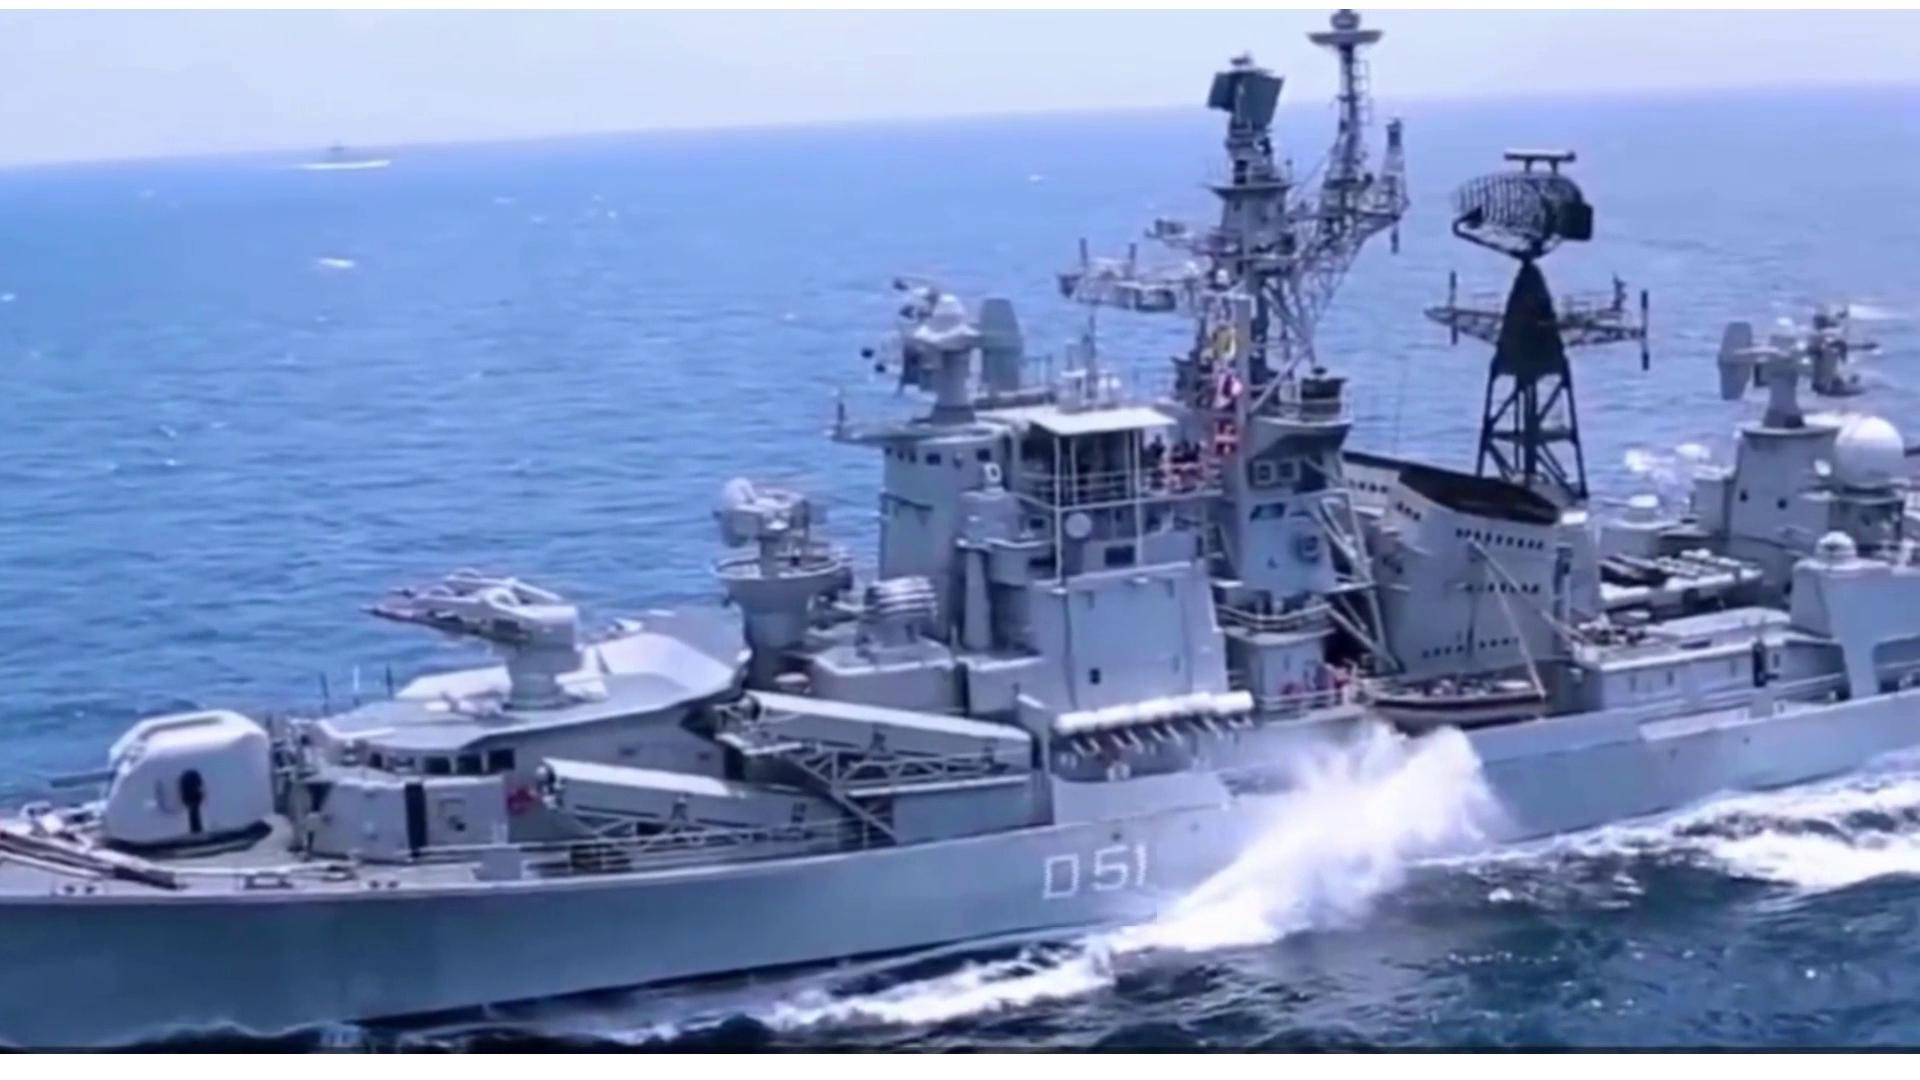OCR: (1002, 825, 1156, 927)
